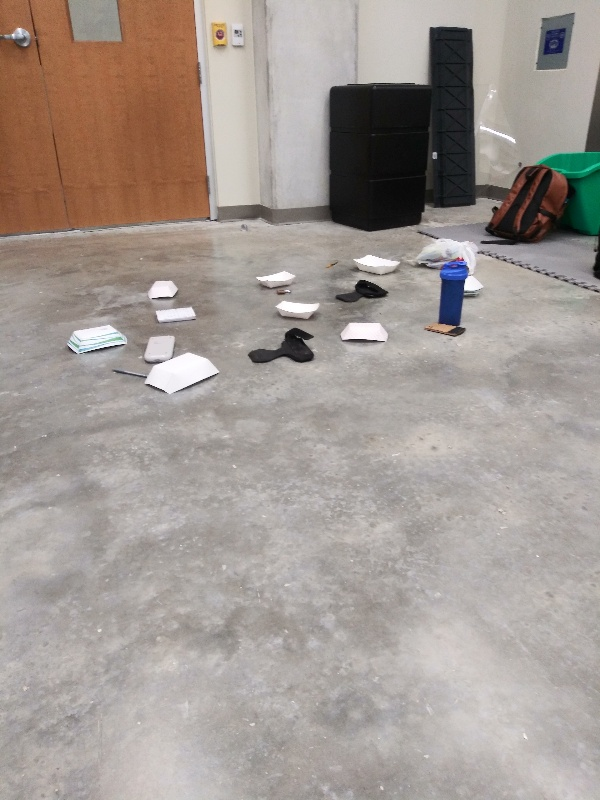plate: (138, 349, 224, 394), (65, 322, 129, 354), (345, 252, 405, 278), (273, 297, 323, 327), (336, 319, 395, 344), (251, 268, 300, 293), (144, 278, 182, 301), (462, 271, 486, 301)
